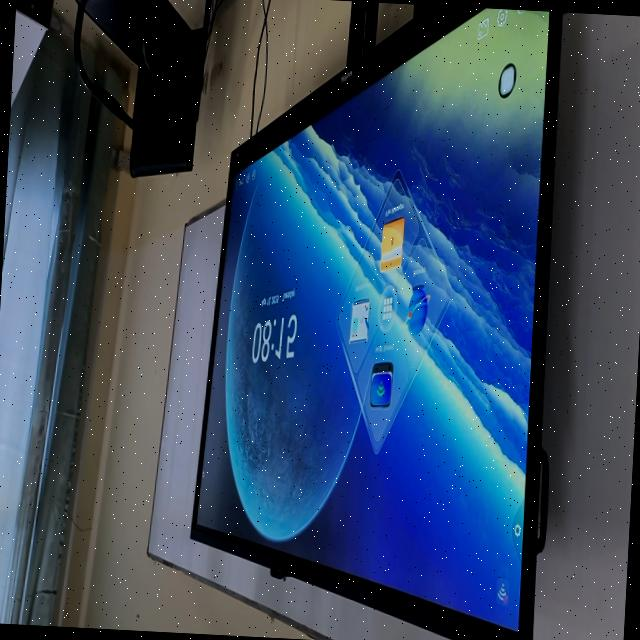Chair: (74, 0, 213, 177)
Digital board: (190, 1, 562, 640)
